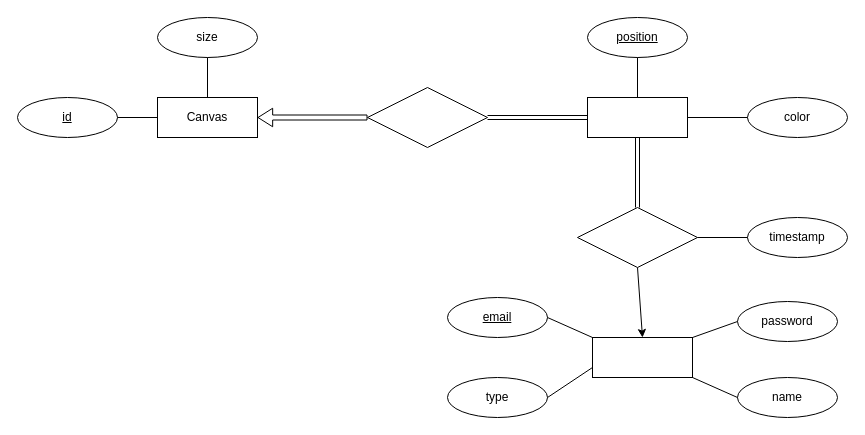
This 865x435 diagram has some shape labels left out. The box of each missing label's shape, as (x1, y1, x2, y2) in pixels:
draw: (576, 206, 698, 268)
has: (366, 86, 488, 148)
Pixel: (586, 96, 688, 138)
User: (592, 336, 692, 378)
